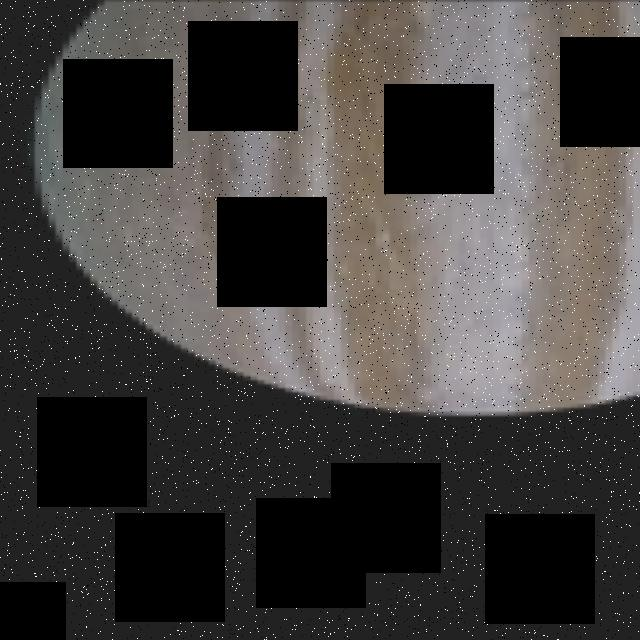Jupiter: (28, 0, 640, 415)
